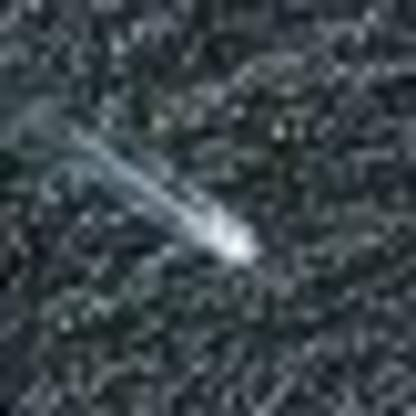ship: (188, 188, 273, 277)
